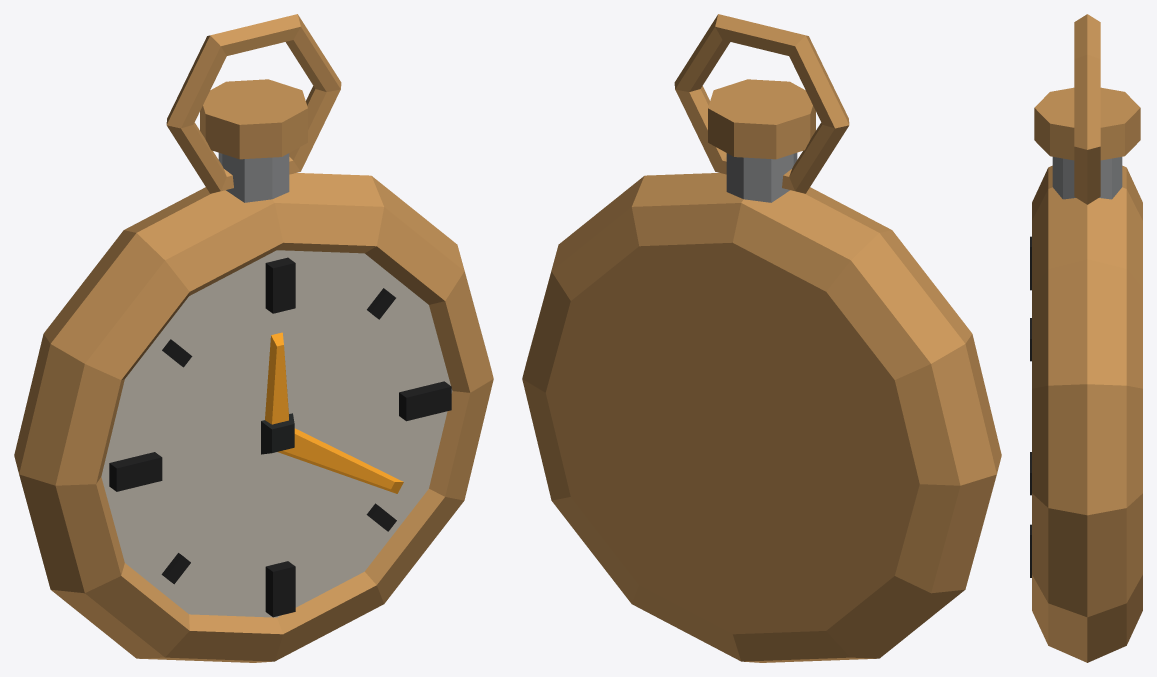
Rendered from SM_Icon_Watch_01-transformed.glb.
3 views of the same model, side by side, from view 1: azimuth 30°, elevation 25°; view 2: azimuth 150°, elevation 25°; view 3: azimuth 270°, elevation 25° (orthographic). The views are drawn at different scales.
Visible parts, largest first — view 1: SM_Icon_Watch_01; view 2: SM_Icon_Watch_01; view 3: SM_Icon_Watch_01.
Part boxes in pixels (x1,y1,x2,y2): SM_Icon_Watch_01: [14, 14, 493, 662]; SM_Icon_Watch_01: [522, 14, 1001, 662]; SM_Icon_Watch_01: [1030, 14, 1142, 662].
Size of the model in its own units: 0.464 by 0.6024 by 0.1018.
1 material, 1 textured.
